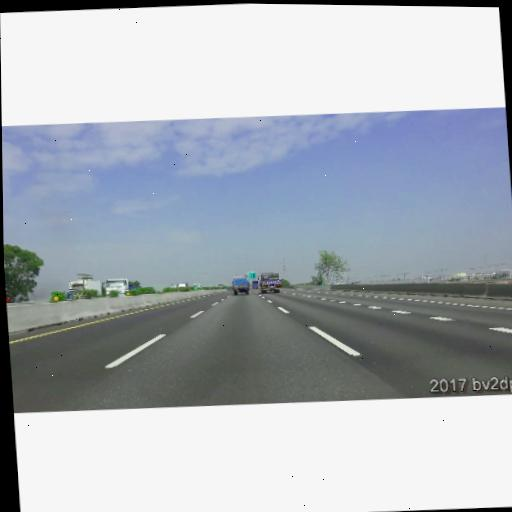Car: (105, 277, 142, 297), (66, 278, 101, 299), (260, 272, 282, 293), (233, 277, 251, 294), (252, 281, 259, 290)
